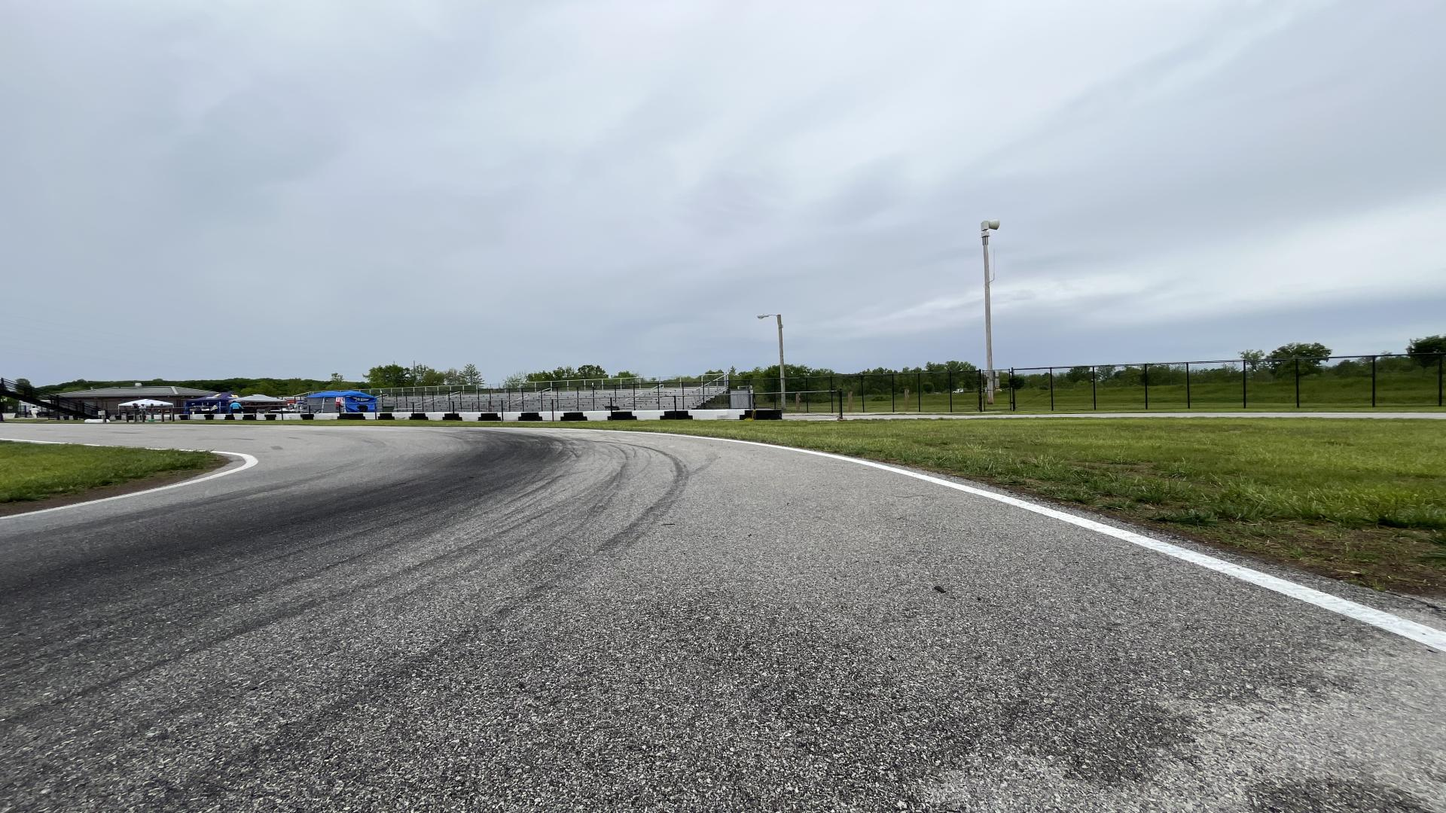white-line: (606, 431, 1445, 654), (0, 452, 259, 520), (489, 428, 602, 431), (0, 439, 68, 443), (146, 448, 167, 450), (83, 444, 100, 446), (199, 450, 205, 452), (189, 450, 192, 452), (179, 450, 185, 451)
